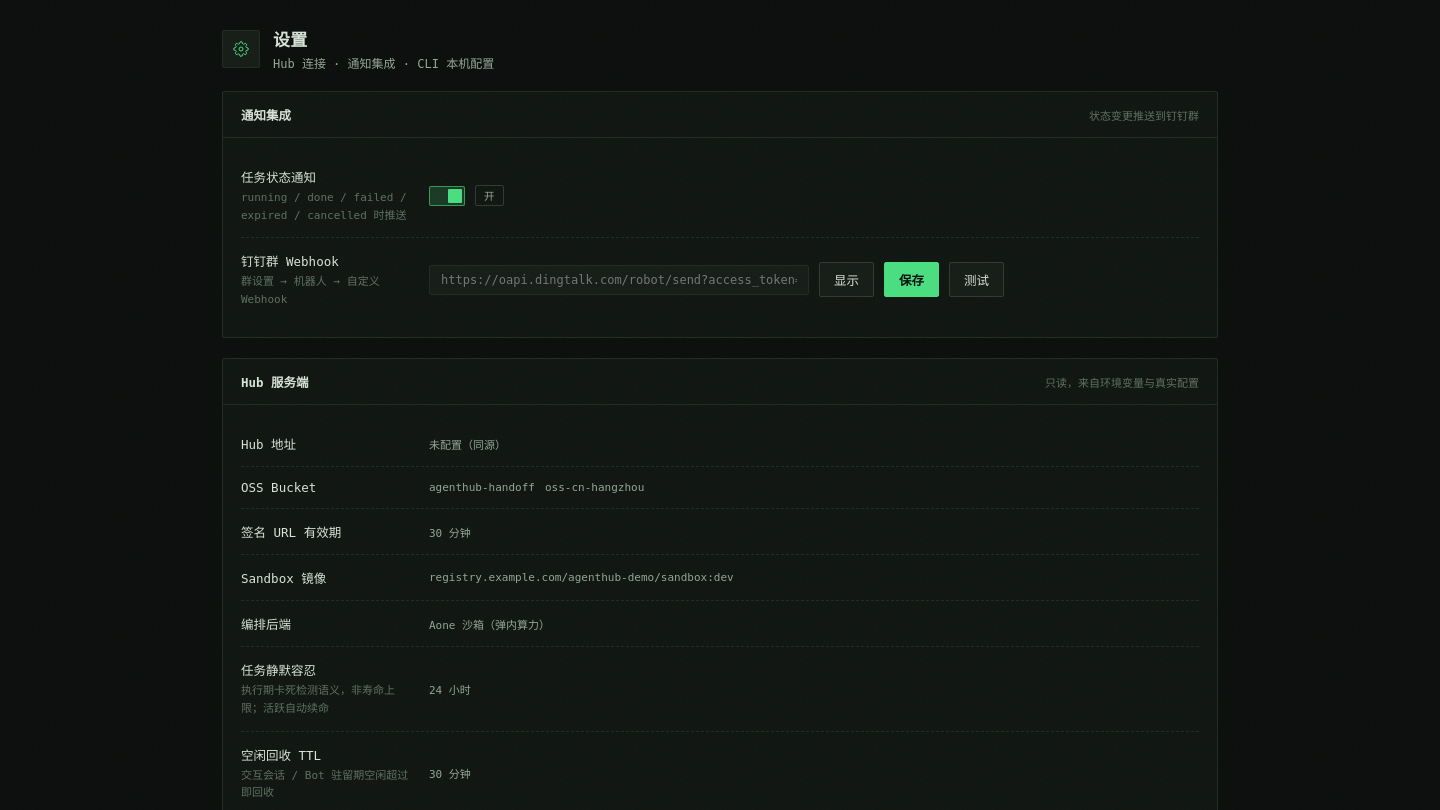
it: SettingsView › webhook 测试按钮给出真实成败反馈
The width and height of the screenshot is (1440, 810).
Check: the switch named "任务状态通知" is shown, box [429, 186, 465, 206]
Click the button "测试" at coordinates (976, 280), box [949, 262, 1004, 297]
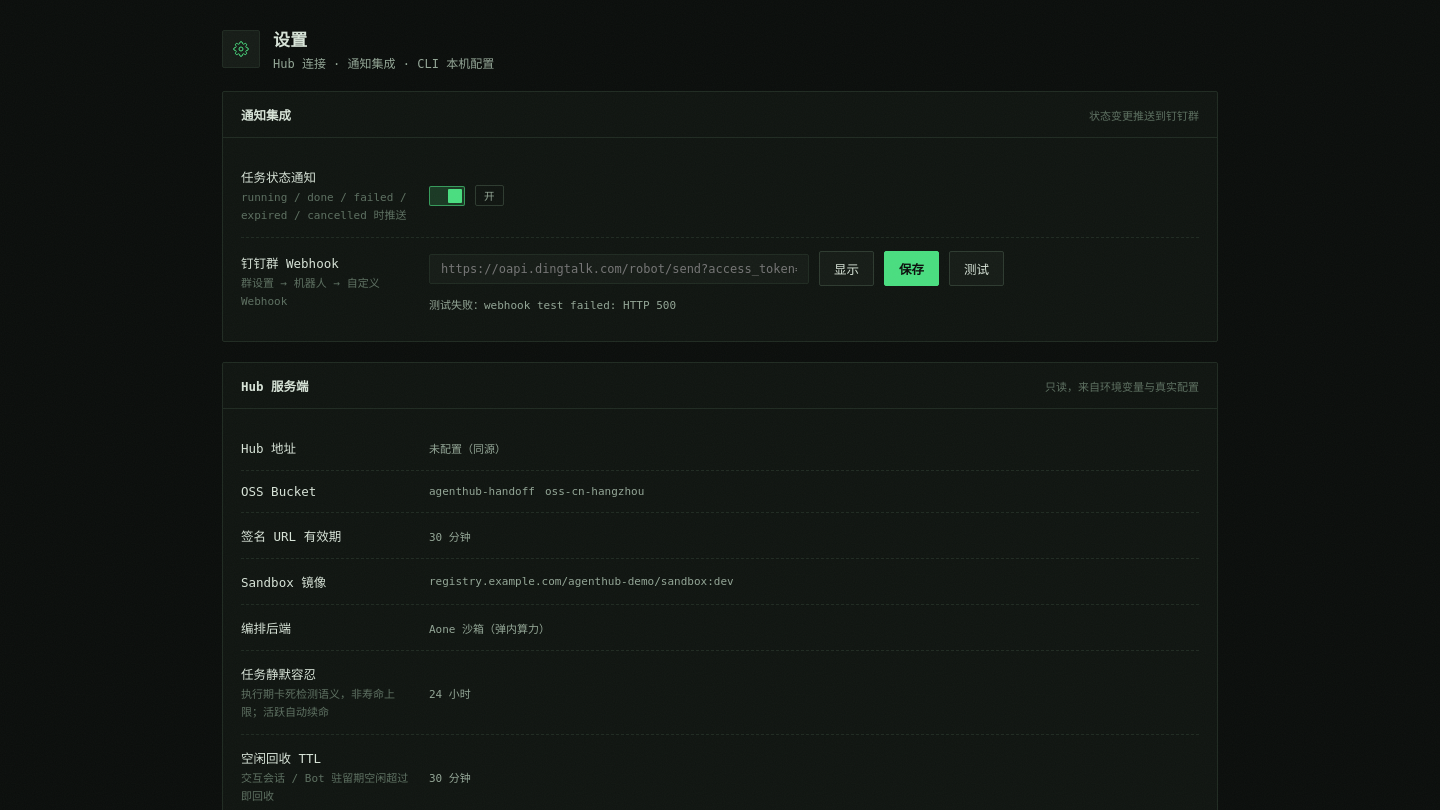
Check: the text "测试失败：webhook test failed: HTTP 500" is shown, box [429, 296, 676, 312]
